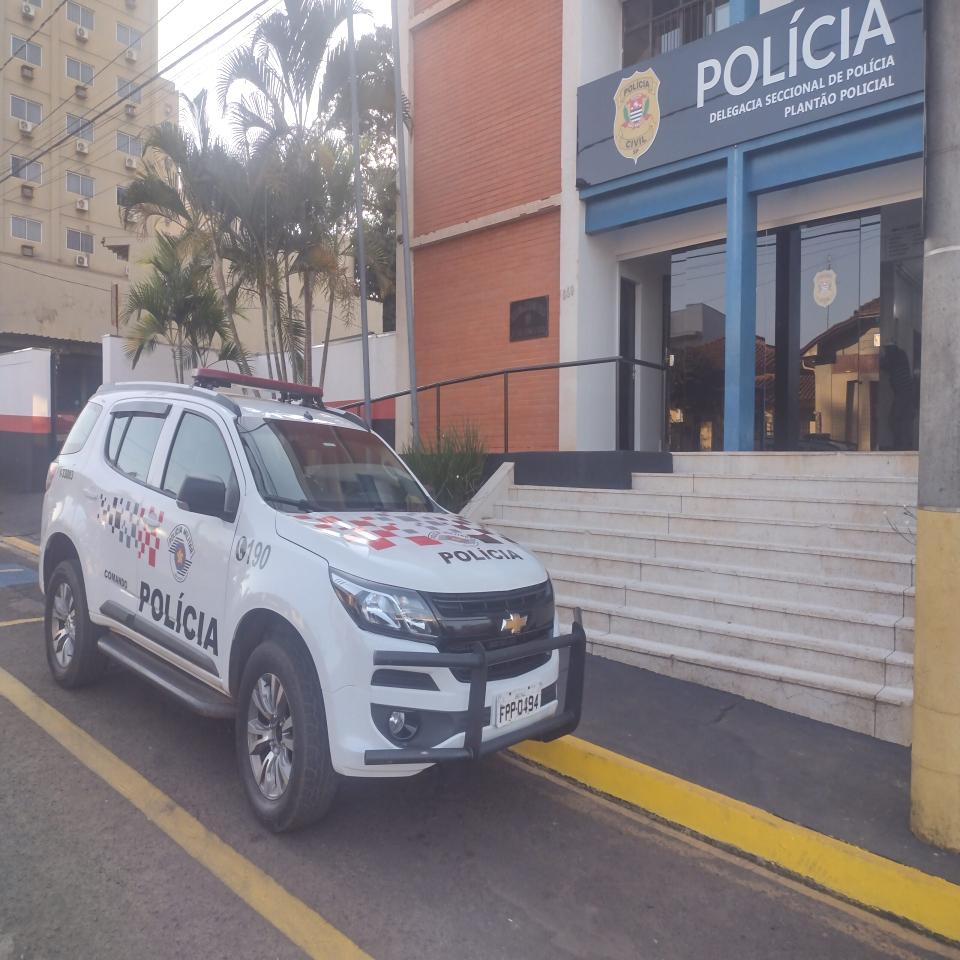viatura: (45, 360, 585, 847)
